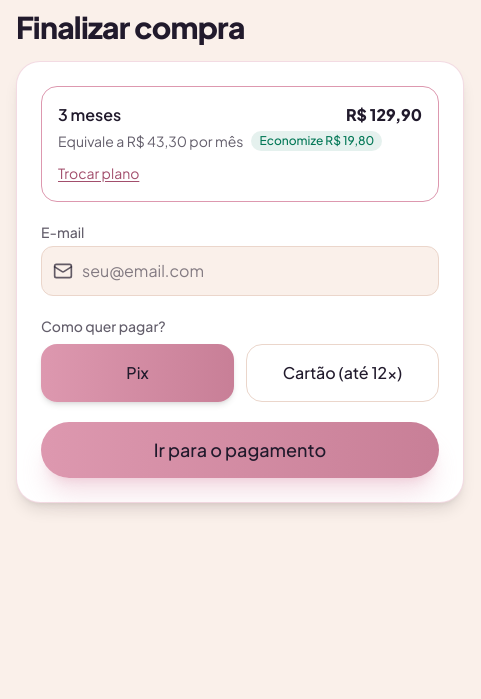
Checkout › escolher outro plano na lista atualiza o resumo
Click the button "Trocar plano".
click(99, 173)  # box x1=58 y1=163 x2=139 y2=183
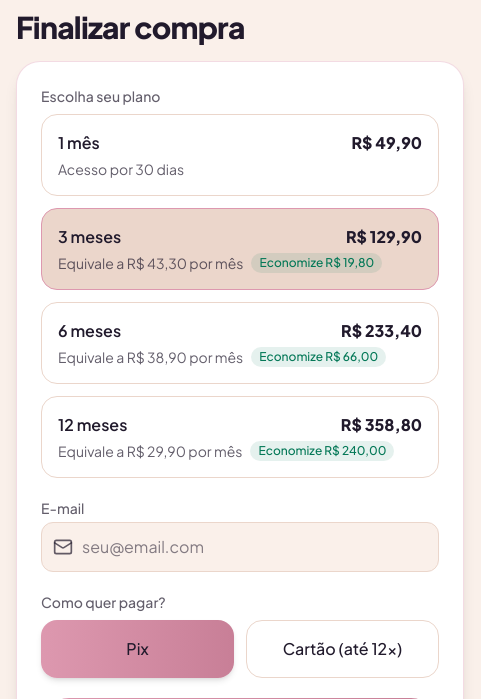
Click the radio button labelled "12 meses".
click(93, 424)  # box x1=41 y1=396 x2=439 y2=478
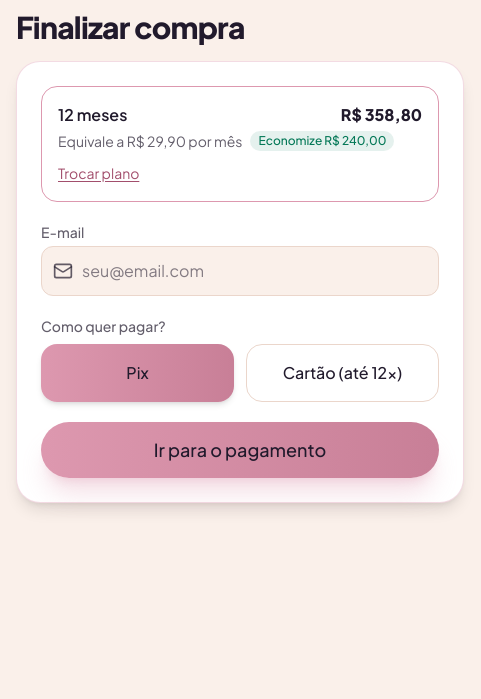
Check: the text "R$ 358,80" is shown, box x1=341 y1=103 x2=422 y2=127
Check: the radio button labelled "6 meses" is gone
